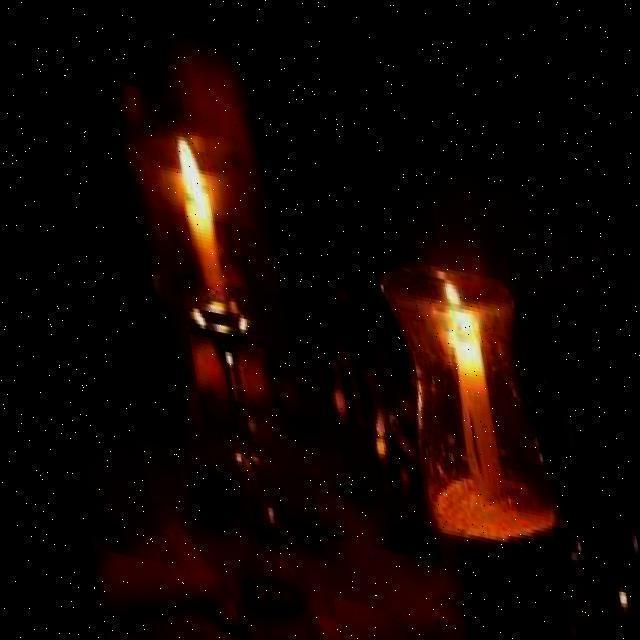Fire: (162, 112, 206, 198), (424, 249, 470, 323)
